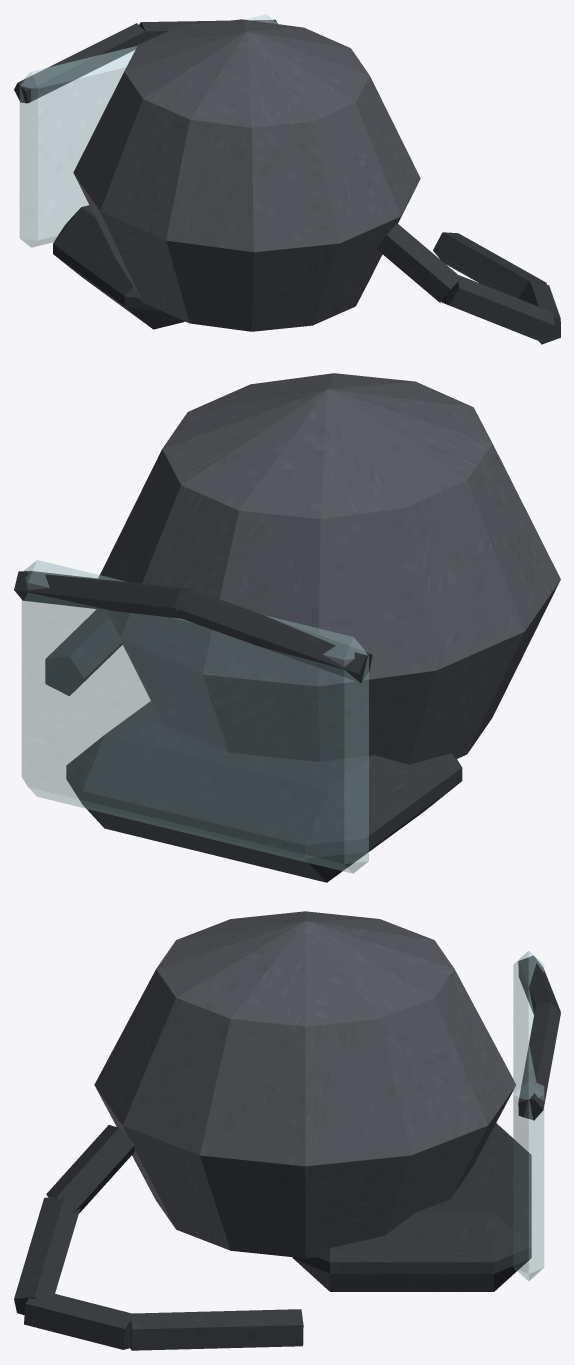
File: basic_papr_helmet.glb
3 views of the same model, one above another, from view 1: azimuth 30°, elevation 25°; view 2: azimuth 150°, elevation 25°; view 3: azimuth 270°, elevation 25° (orthographic). The views are drawn at different scales.
Visible parts, largest first — view 1: block_molded helmet shell, block_transparent full-face shield, block_chin guard, block_rear air hose 1, block_shield mounting band 0, block_rear air hose 3, block_rear air hose 0, block_rear air hose 2, block_shield mounting band 1; view 2: block_molded helmet shell, block_transparent full-face shield, block_chin guard, block_shield mounting band 0, block_shield mounting band 1, block_rear air hose 3; view 3: block_molded helmet shell, block_chin guard, block_transparent full-face shield, block_rear air hose 3, block_rear air hose 2, block_rear air hose 1, block_rear air hose 0, block_shield mounting band 1, block_shield mounting band 0.
Part boxes in pixels (box(x1,y1,x2,y2)): block_molded helmet shell: box(73, 19, 420, 331); block_transparent full-face shield: box(19, 14, 276, 247); block_chin guard: box(53, 205, 185, 329); block_rear air hose 1: box(442, 275, 554, 343); block_shield mounting band 0: box(14, 23, 145, 103); block_rear air hose 3: box(433, 232, 546, 298); block_rear air hose 0: box(376, 223, 461, 302); block_rear air hose 2: box(518, 280, 560, 344); block_shield mounting band 1: box(139, 19, 277, 40); block_molded helmet shell: box(98, 373, 560, 764); block_transparent full-face shield: box(21, 560, 368, 873); block_chin guard: box(66, 701, 462, 882); block_shield mounting band 0: box(178, 589, 372, 682); block_shield mounting band 1: box(14, 571, 190, 618); block_rear air hose 3: box(45, 609, 122, 695); block_molded helmet shell: box(94, 911, 515, 1258); block_chin guard: box(292, 1123, 531, 1291); block_transparent full-face shield: box(513, 951, 544, 1280); block_rear air hose 3: box(130, 1309, 303, 1350); block_rear air hose 2: box(24, 1290, 134, 1349); block_rear air hose 1: box(14, 1196, 80, 1315); block_rear air hose 0: box(46, 1125, 134, 1213); block_shield mounting band 1: box(518, 1002, 560, 1120); block_shield mounting band 0: box(518, 955, 560, 1014).
Bounding box in the file's own units: 0.2878 × 0.2141 × 0.3237.
Materials: 2 (2 with a texture image).
